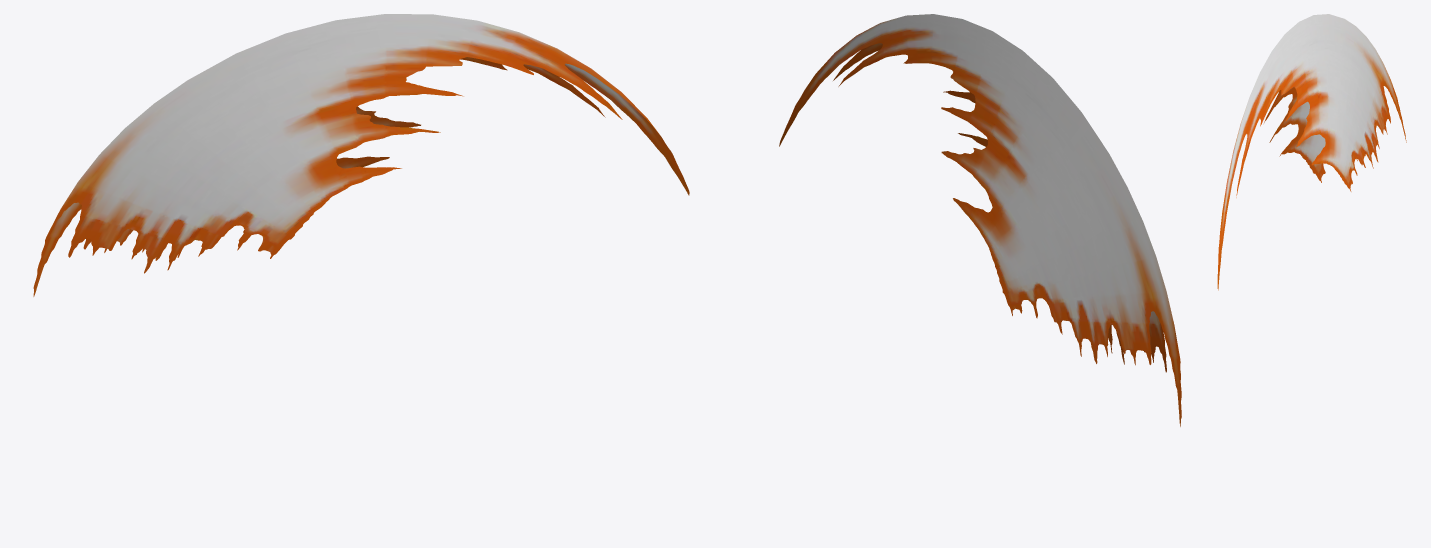
Rendered from fx_cookie0113_front_skill01.fbx.
The picture shows the model from 3 angles, left to right: view 1: azimuth 30°, elevation 25°; view 2: azimuth 150°, elevation 25°; view 3: azimuth 270°, elevation 25°; orthographic projection. The views are drawn at different scales.
Visible parts, largest first — view 1: L_scratch2; view 2: L_scratch2; view 3: L_scratch2.
Boxes of the visible parts, x1,y1,x2,y2 form: L_scratch2: (33,14,689,296); L_scratch2: (779,14,1181,426); L_scratch2: (1217,14,1406,290).
Bounding box in the file's own units: 543 × 509 × 219.
